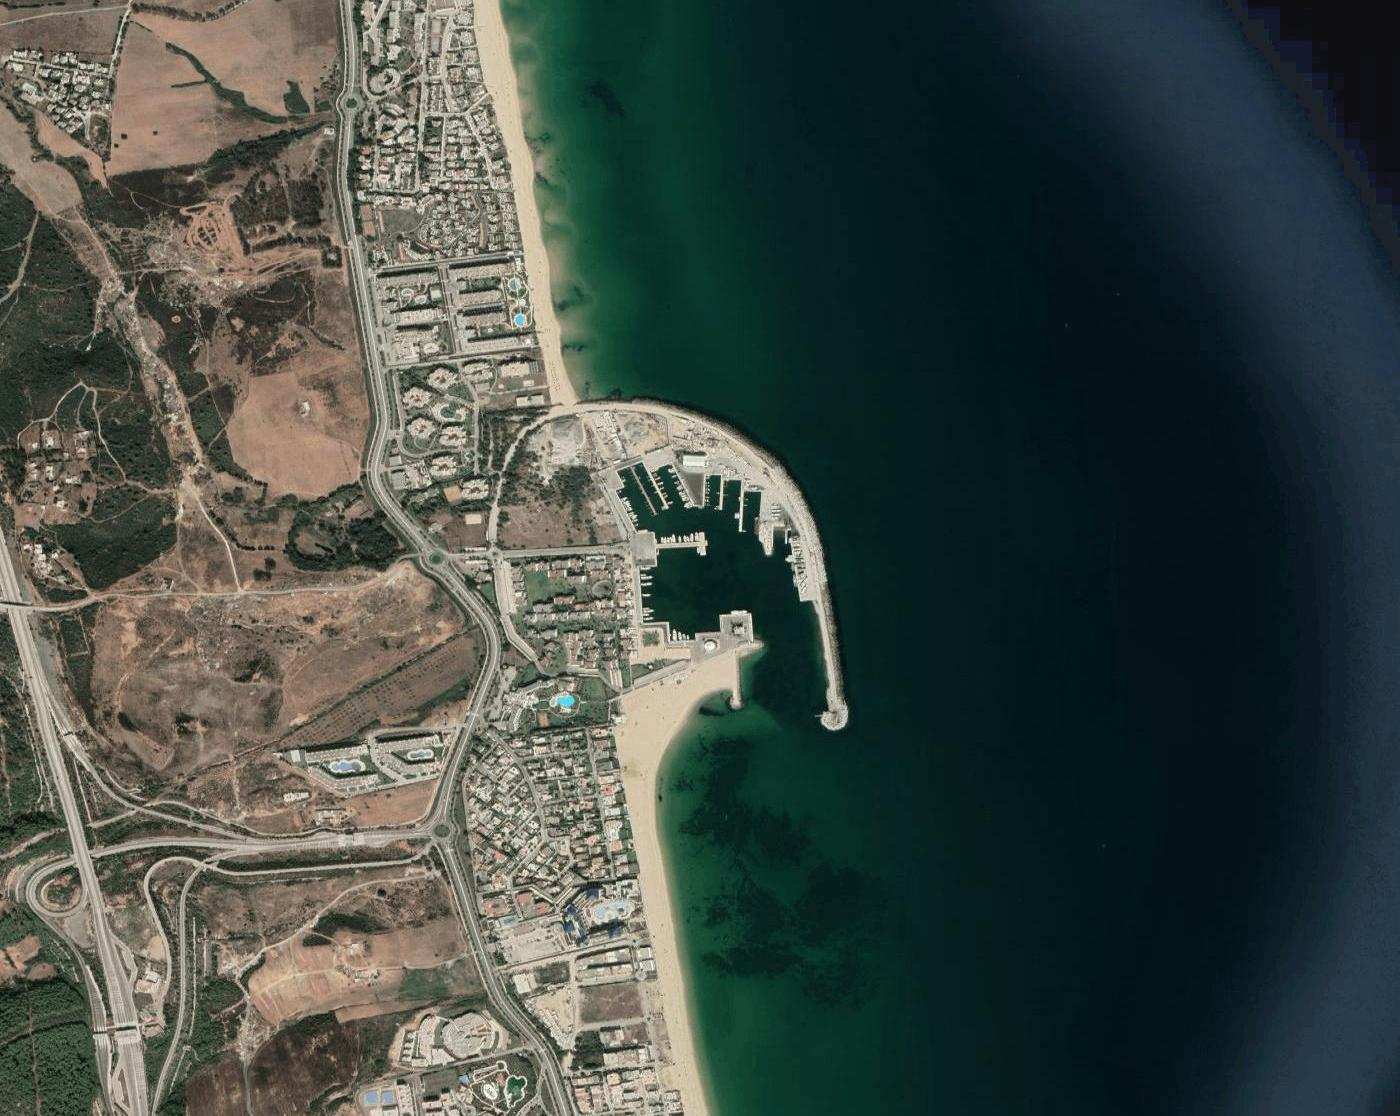harbor: (590, 392, 870, 749)
motorway: (67, 856, 148, 1114), (35, 692, 85, 859), (1, 517, 47, 690)
